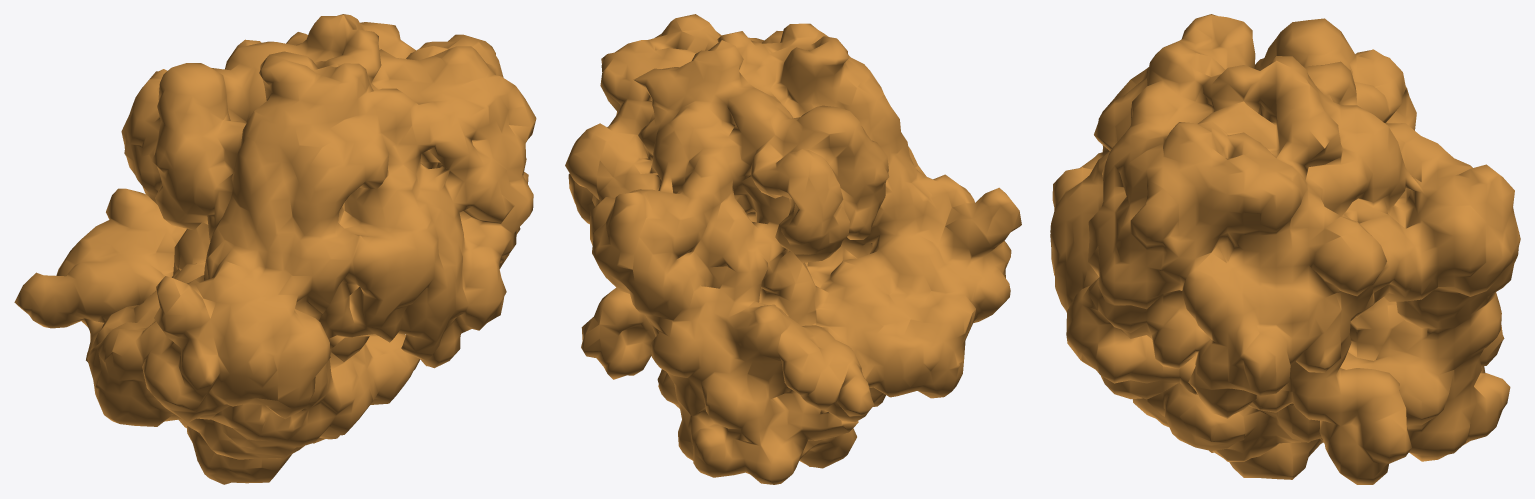
File: ribosome_low_1_1.dae
3 renders of one model, left to right at view 1: azimuth 30°, elevation 25°; view 2: azimuth 150°, elevation 25°; view 3: azimuth 270°, elevation 25°, orthographic. The views are drawn at different scales.
Parts seen in each view (by area): view 1: CoarseMS_1TWT_1TWV; view 2: CoarseMS_1TWT_1TWV; view 3: CoarseMS_1TWT_1TWV.
Boxes of the visible parts, x1=… form: CoarseMS_1TWT_1TWV: x1=14, y1=14, x2=536, y2=484; CoarseMS_1TWT_1TWV: x1=565, y1=14, x2=1021, y2=484; CoarseMS_1TWT_1TWV: x1=1050, y1=14, x2=1520, y2=484.
Bounding box in the file's own units: 252 × 245 × 222.
